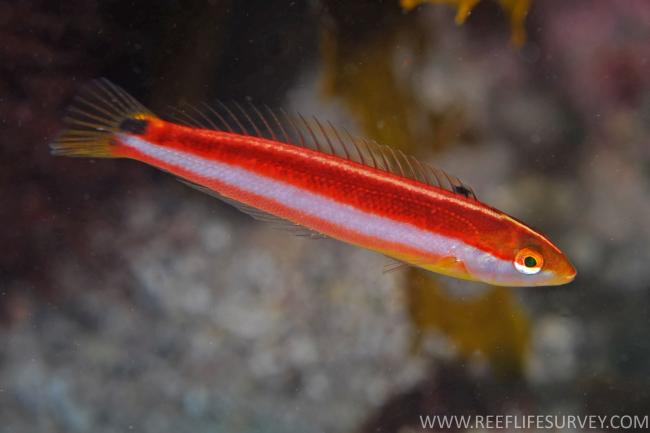fish: (49, 76, 578, 288)
